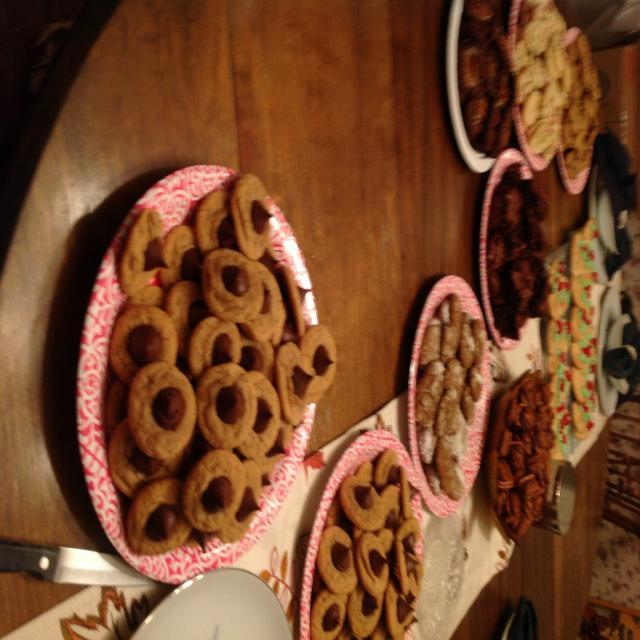Cookie: (109, 177, 339, 560), (309, 446, 424, 640), (415, 289, 487, 501), (552, 214, 600, 438), (498, 370, 558, 542), (489, 173, 549, 342), (516, 0, 572, 160), (460, 2, 515, 148), (559, 33, 601, 183)
